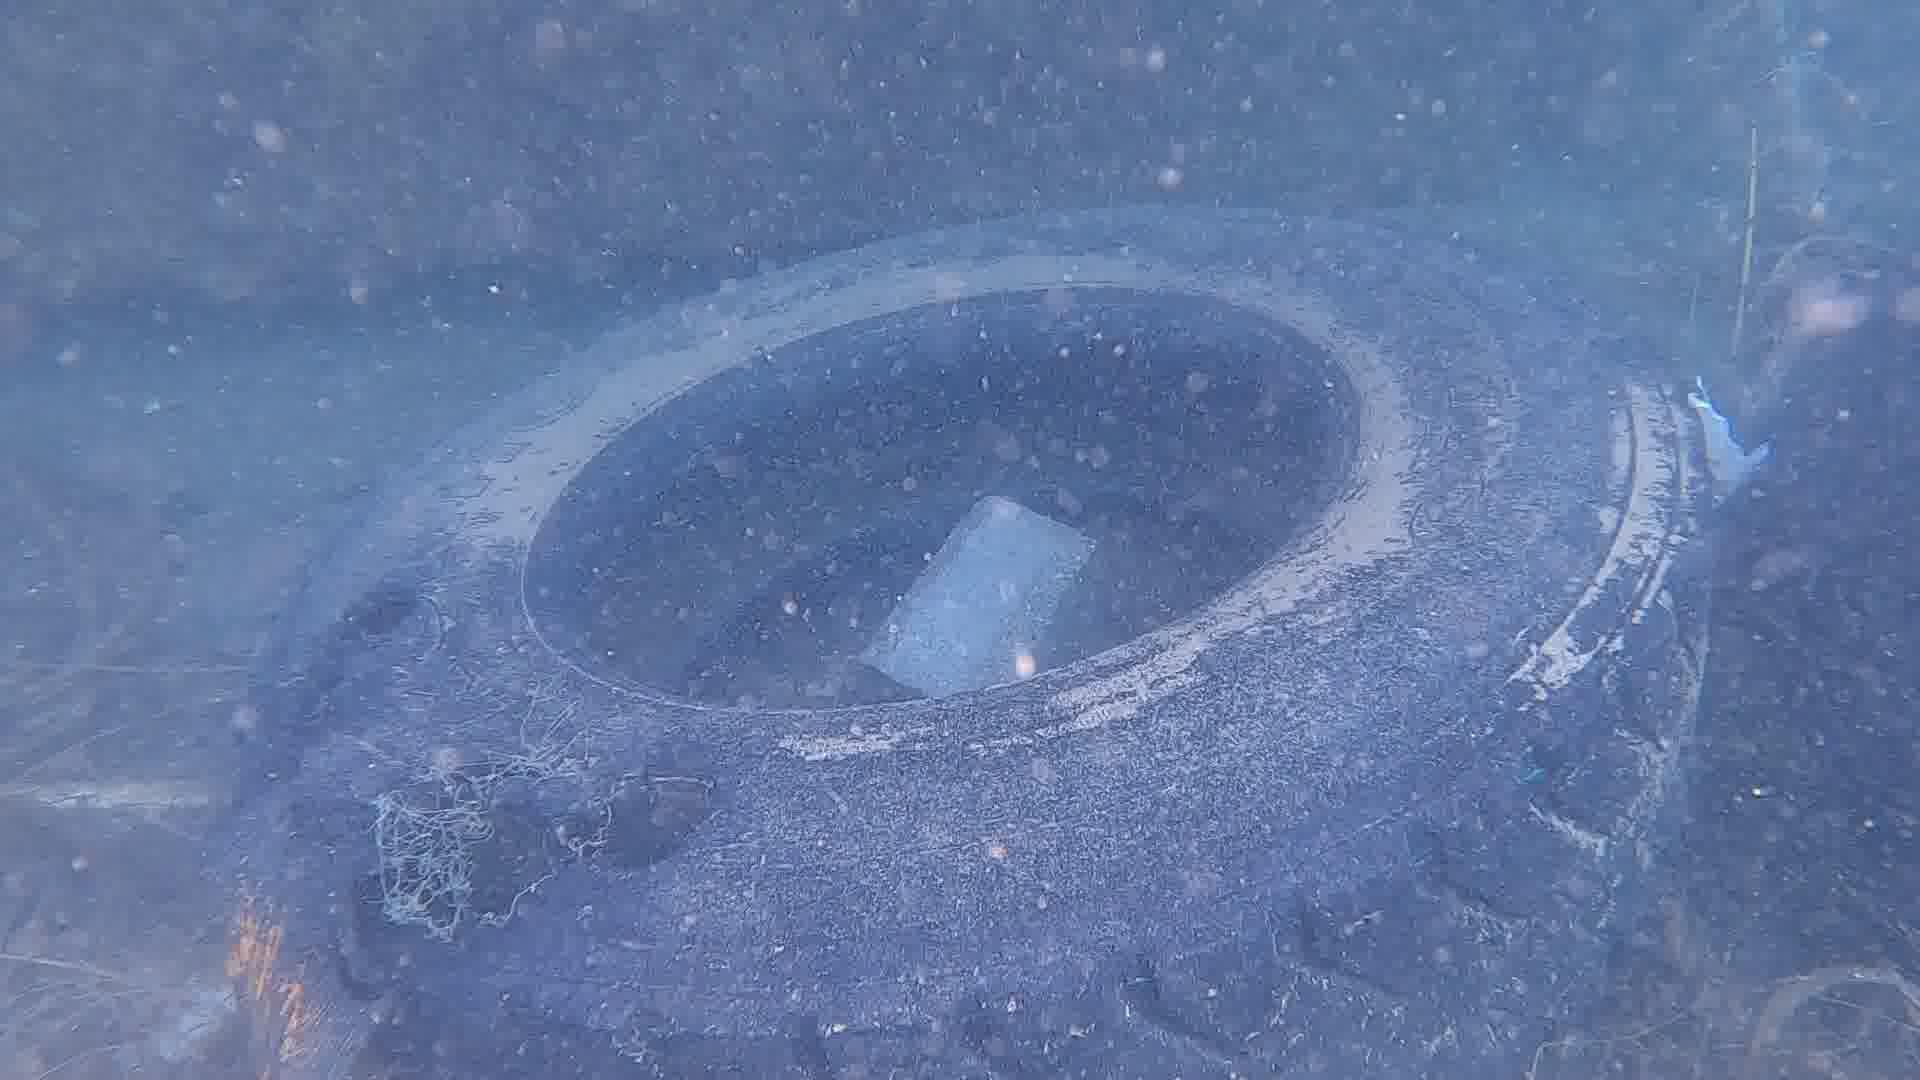tire: (220, 194, 1720, 1080)
